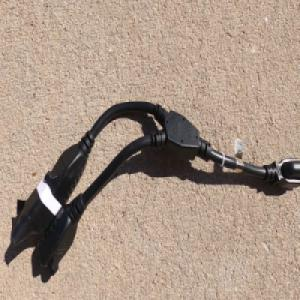Wire: (10, 100, 300, 277)
